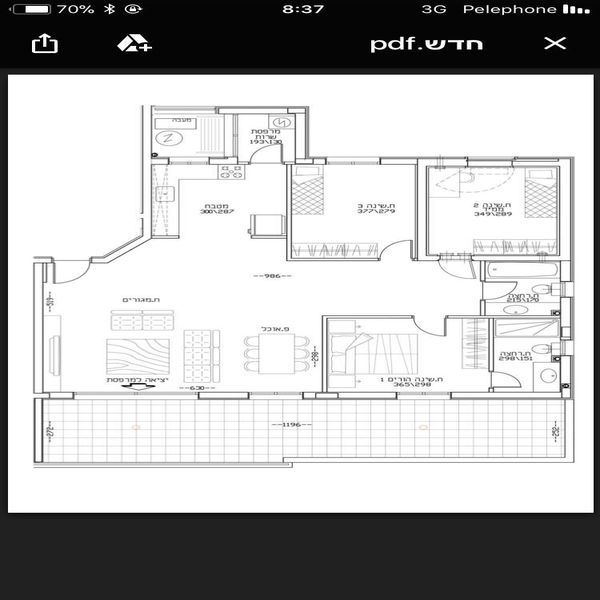door: (408, 311, 449, 344), (441, 254, 477, 284), (377, 235, 415, 262), (249, 138, 284, 164), (480, 282, 519, 305), (486, 373, 527, 388)
room: (281, 153, 430, 264), (417, 157, 569, 265), (320, 314, 494, 401), (486, 313, 573, 400)
wall: (557, 156, 574, 286), (31, 261, 43, 395), (454, 390, 571, 400), (303, 392, 397, 404), (144, 110, 151, 242), (217, 105, 288, 114), (198, 393, 245, 400), (384, 159, 417, 163)
window: (72, 390, 196, 404), (252, 391, 302, 404), (329, 154, 379, 166), (397, 391, 451, 402), (468, 155, 511, 168)
